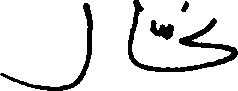ا: (127, 0, 141, 70)
ح: (173, 33, 237, 72)
ل: (0, 0, 92, 89)
ن: (178, 0, 219, 41)
